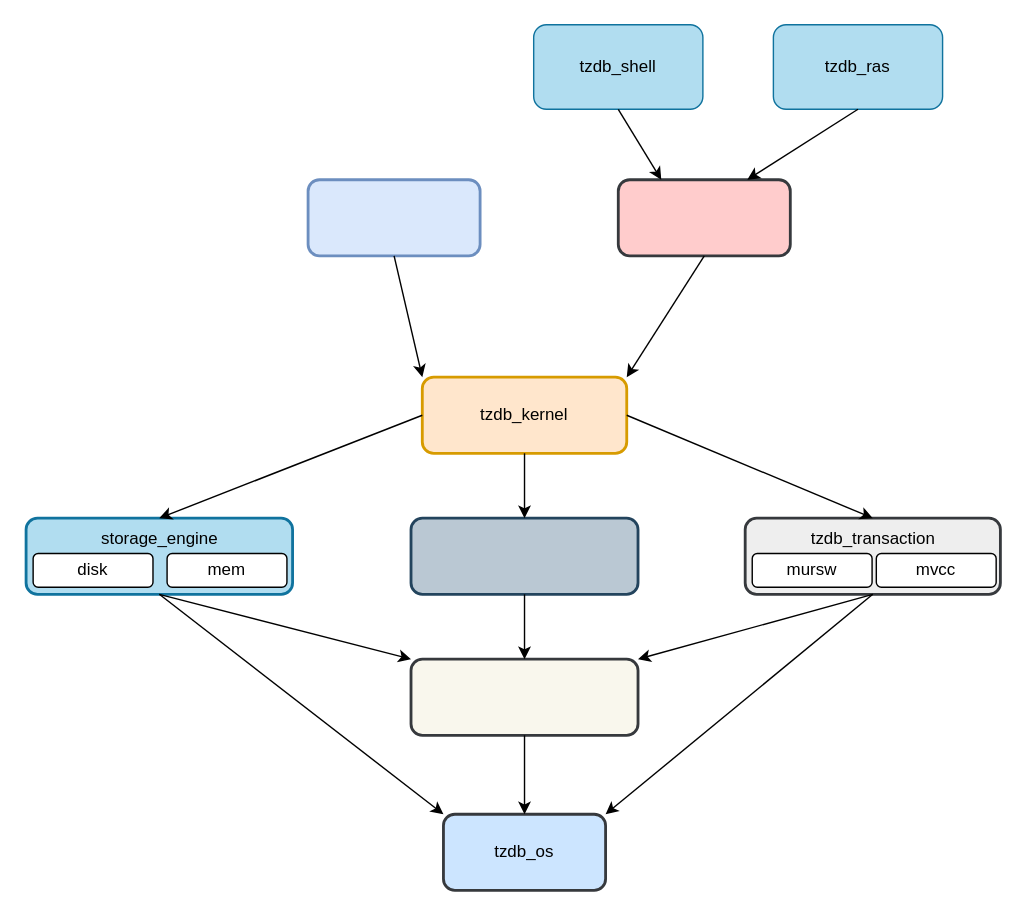
Some shapes in this 1025 by 917 pixel diagram are drawn without their labels. Each missing label, with the box of its shape:
tzdb_api: (306, 178, 481, 257)
tzdb_common: (409, 657, 639, 736)
tzdb_kernel_extensions: (409, 516, 639, 595)
tzdb_sqlengine: (616, 178, 791, 257)
